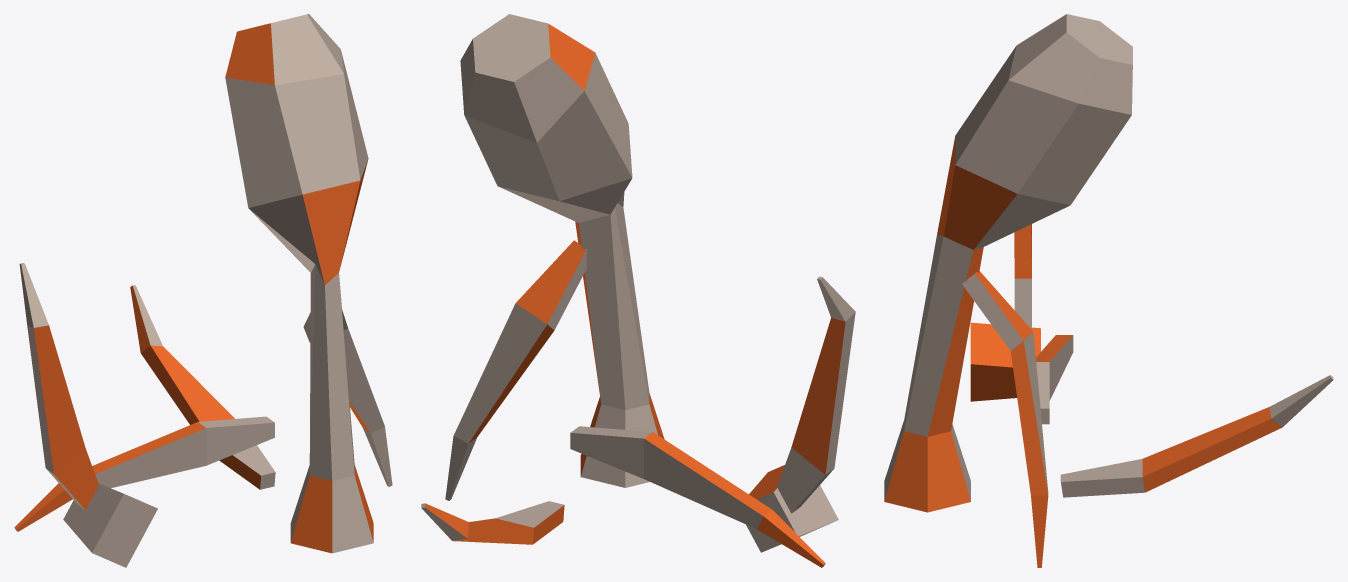
Rendered from WindTurbine.004.fbx.
3 views of the same model, side by side, from view 1: azimuth 30°, elevation 25°; view 2: azimuth 150°, elevation 25°; view 3: azimuth 270°, elevation 25° (orthographic). The views are drawn at different scales.
Visible parts, largest first — view 1: WindTurbine.004_LOD0; view 2: WindTurbine.004_LOD0; view 3: WindTurbine.004_LOD0.
Boxes of the visible parts, bbox=[...] form: WindTurbine.004_LOD0: bbox=[14, 14, 392, 567]; WindTurbine.004_LOD0: bbox=[421, 14, 855, 567]; WindTurbine.004_LOD0: bbox=[884, 14, 1333, 567].
Size of what is drawn, in the model's own units: 31182 by 38644 by 31459.
